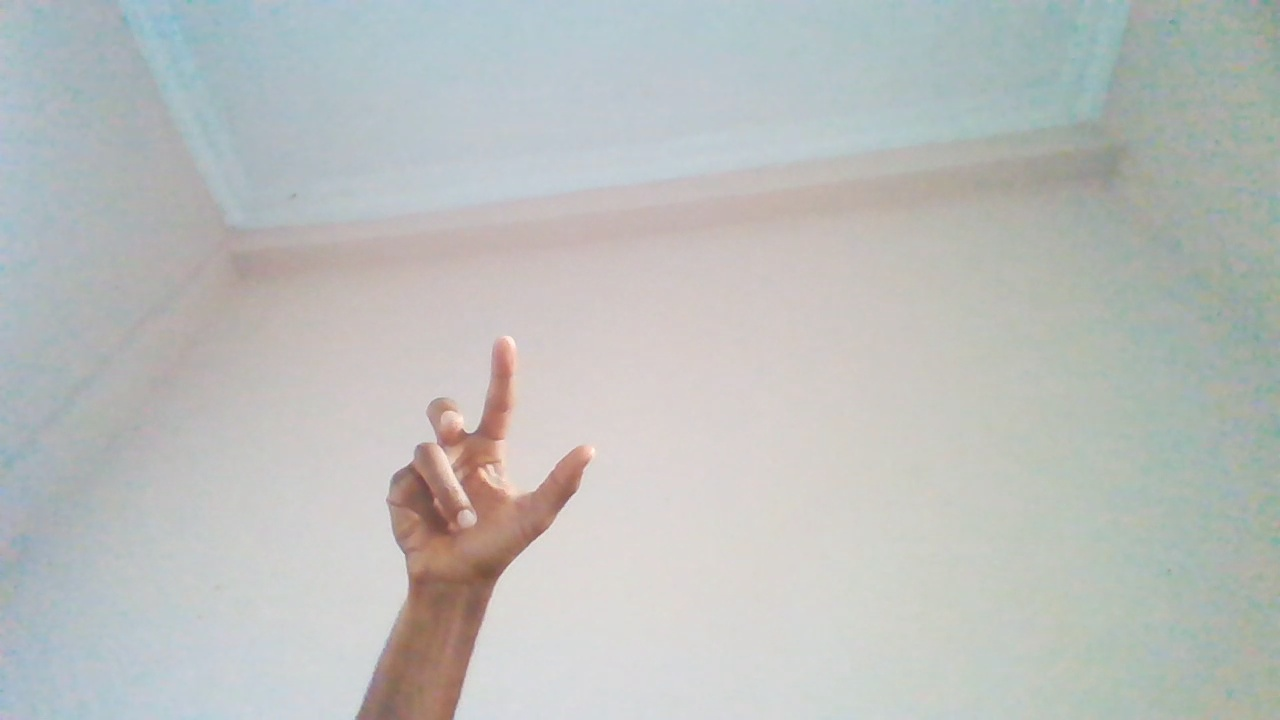hhe: (382, 338, 595, 673)
